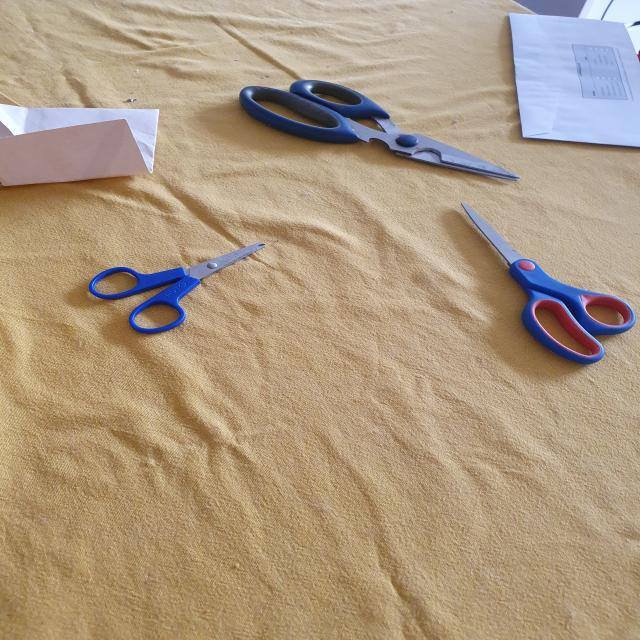scissors: (235, 74, 519, 186), (453, 199, 635, 364), (85, 240, 271, 338)
